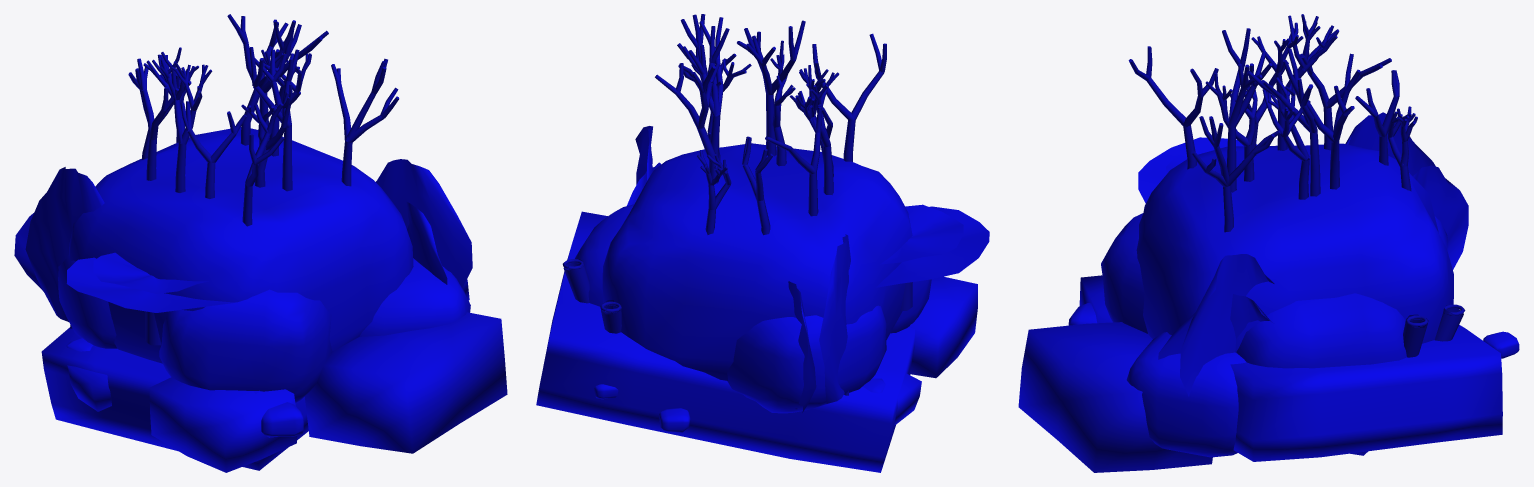
Rendered from coral_head_a.glb.
The picture shows the model from 3 angles, left to right: view 1: azimuth 30°, elevation 25°; view 2: azimuth 150°, elevation 25°; view 3: azimuth 270°, elevation 25°; orthographic projection. The views are drawn at different scales.
Parts seen in each view (by area): view 1: coral_head_a; view 2: coral_head_a; view 3: coral_head_a.
Part boxes in pixels (x1,y1,x2,y2): coral_head_a: [14, 14, 507, 472]; coral_head_a: [536, 14, 989, 472]; coral_head_a: [1018, 14, 1519, 472].
Size of what is drawn, in the model's own units: 1.94 by 1.74 by 2.01.
